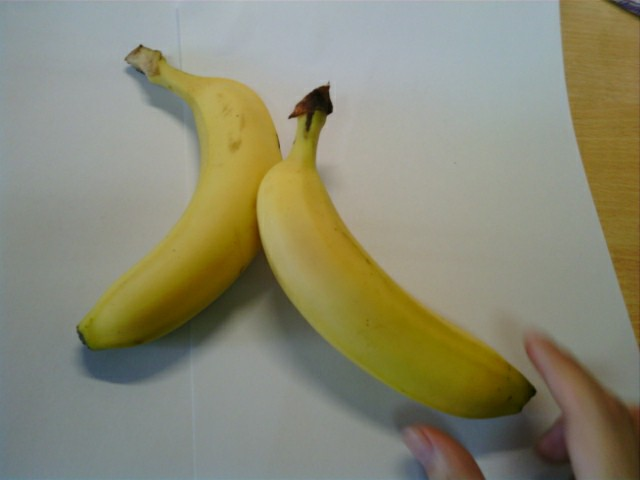fresh_banana: (257, 147, 540, 420), (71, 54, 280, 354)
